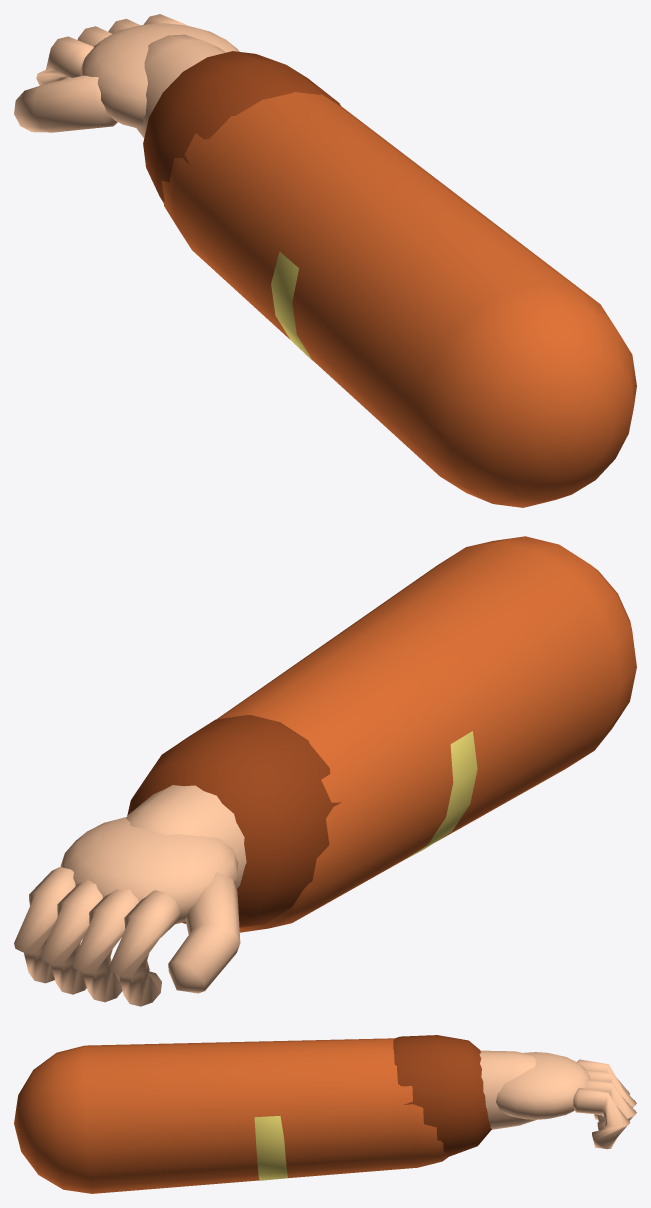
The model's file is fp_arm.glb.
The picture shows the model from 3 angles, top to bottom: view 1: azimuth 30°, elevation 25°; view 2: azimuth 150°, elevation 25°; view 3: azimuth 270°, elevation 25°; orthographic projection. The views are drawn at different scales.
Parts seen in each view (by area): view 1: FpArm; view 2: FpArm; view 3: FpArm.
Boxes of the visible parts, left/top/right/bottom form: FpArm: left=14, top=14, right=636, bottom=507; FpArm: left=14, top=536, right=636, bottom=1006; FpArm: left=14, top=1035, right=636, bottom=1193.
Bounding box in the file's own units: 0.1662 × 0.1713 × 0.6684.
